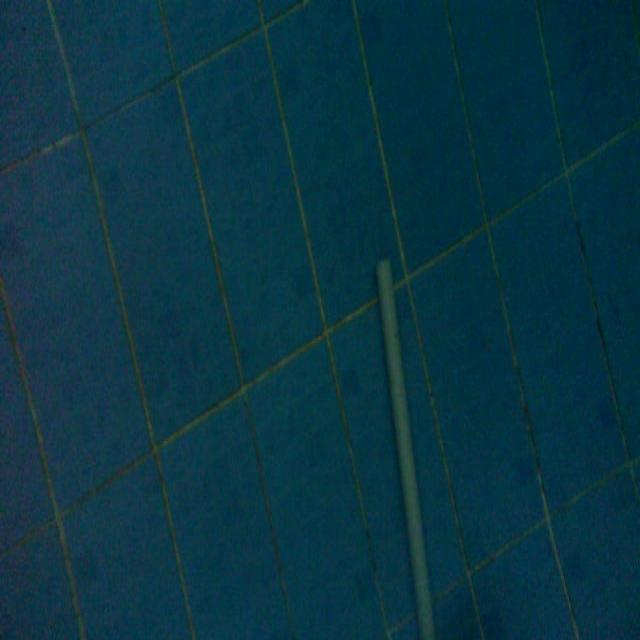Cube: (373, 253, 437, 636)
